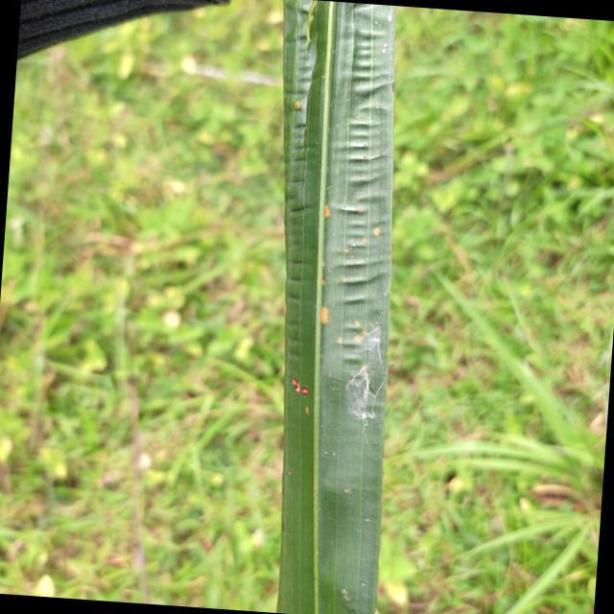Boron: (283, 0, 393, 614)
